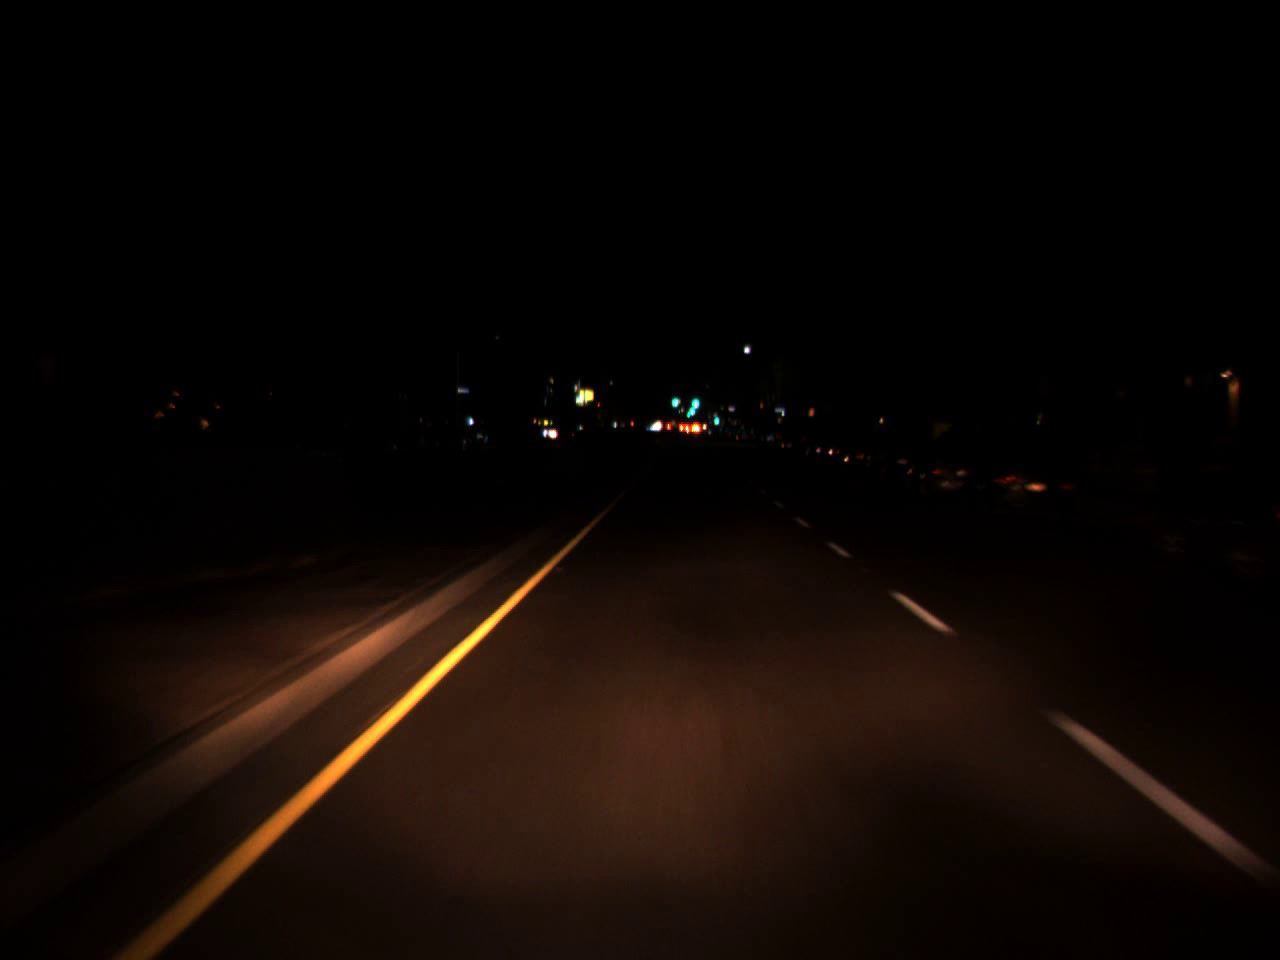go: (682, 398, 696, 422), (687, 388, 699, 412), (669, 388, 679, 409), (713, 409, 720, 427)
